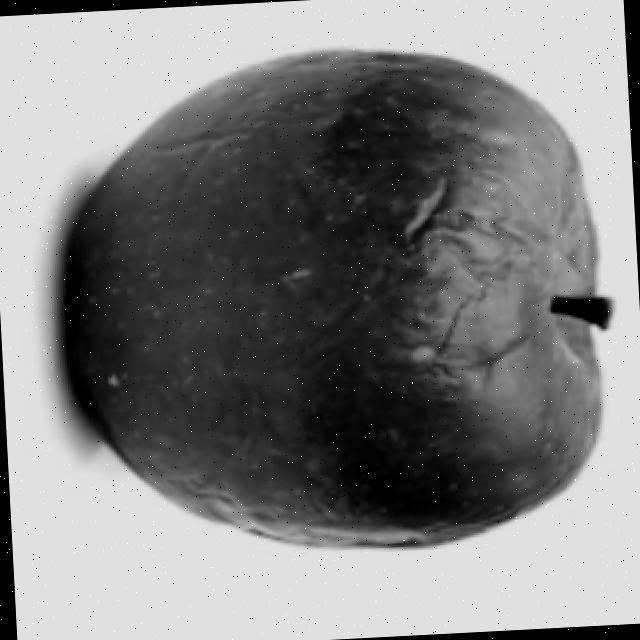overripe: (48, 31, 621, 569)
